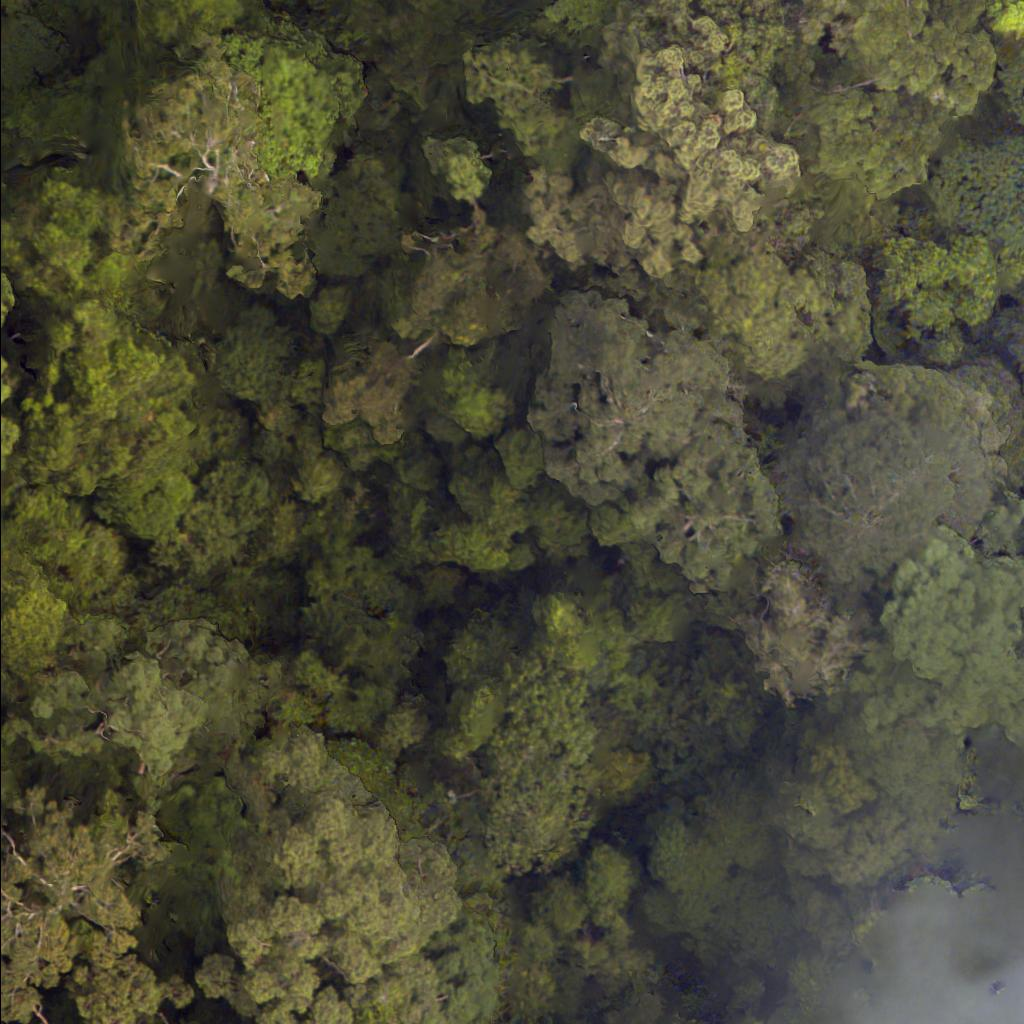crown: (212, 762, 504, 1023), (530, 0, 789, 278), (774, 366, 1006, 596), (132, 54, 322, 289), (882, 499, 1023, 747), (675, 238, 877, 408), (720, 572, 882, 717), (327, 0, 504, 117), (379, 231, 543, 351), (862, 234, 1003, 369), (933, 148, 1023, 272), (0, 215, 30, 494), (1006, 314, 1023, 407), (996, 0, 1023, 45)
